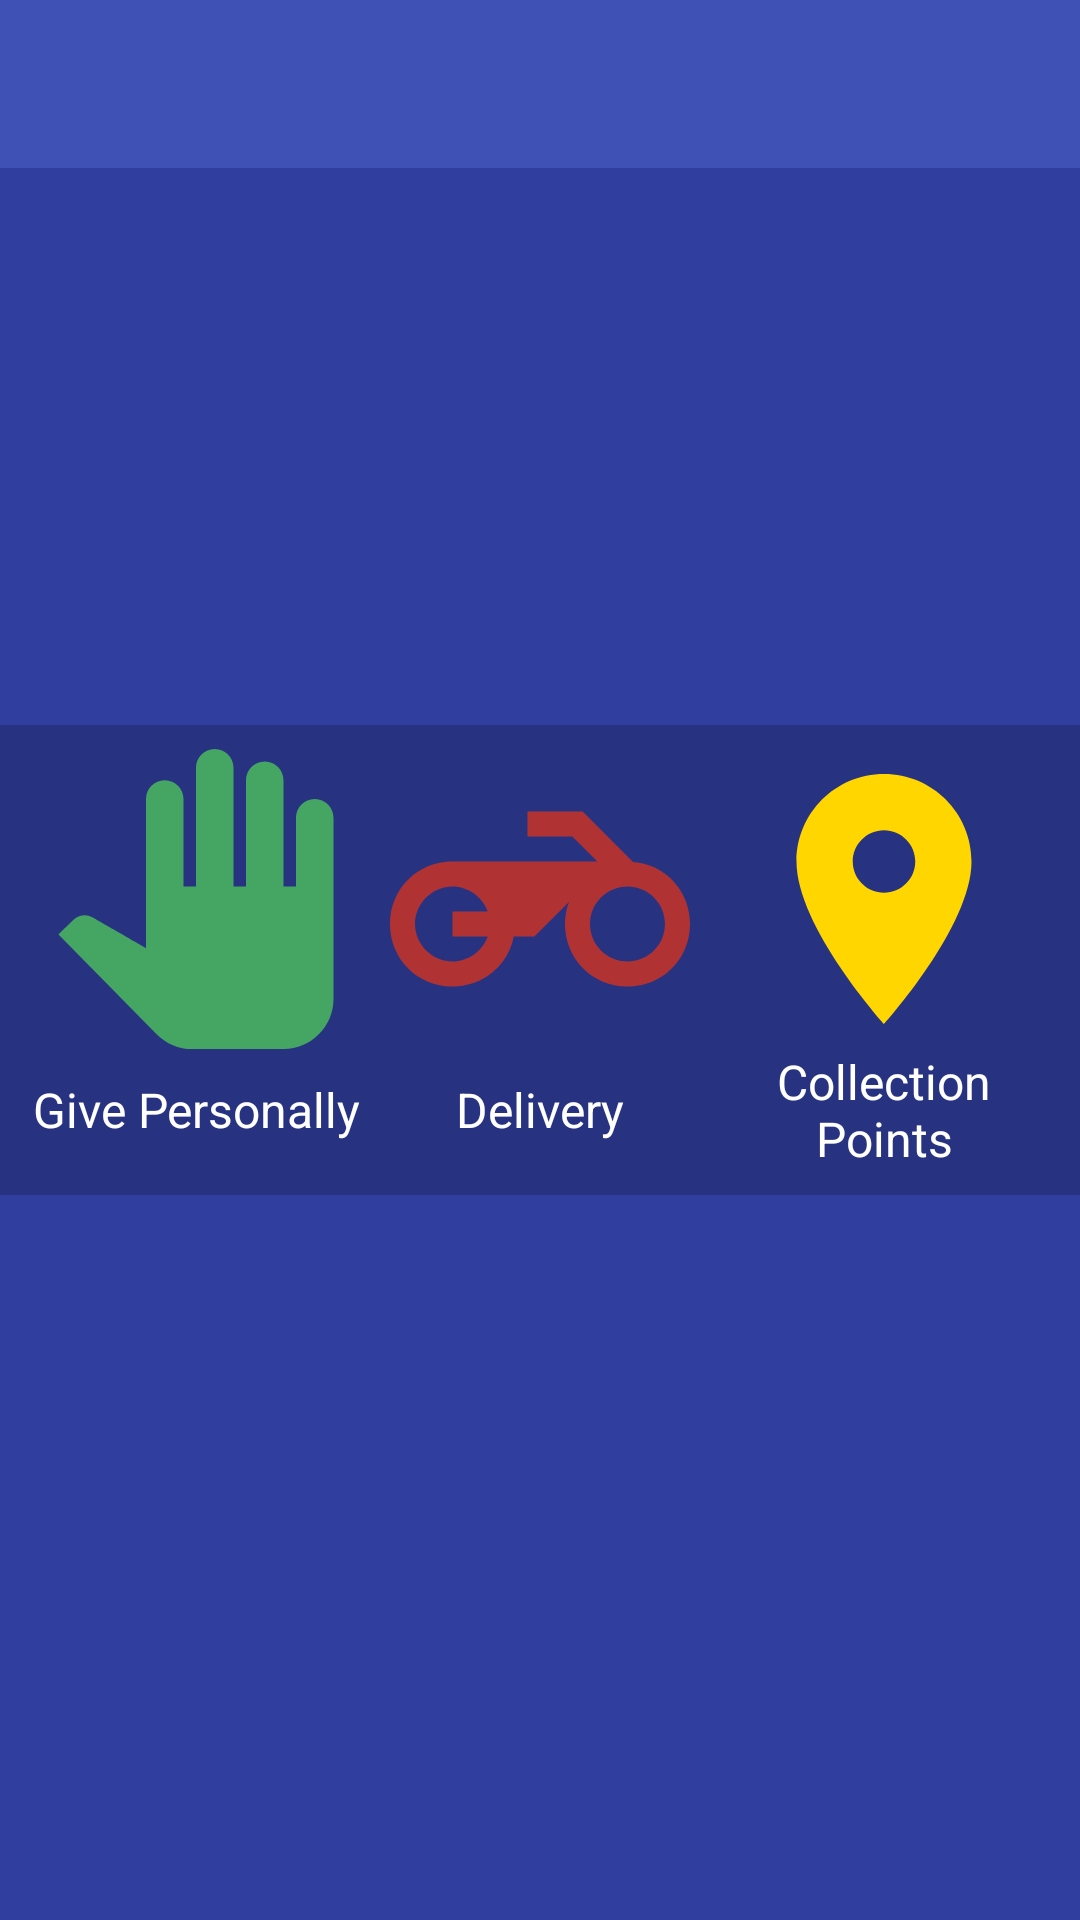

Where icons sit on this 1080×1920 app screen, as (x1,y1,x2,y2):
location on: (796,774,972,1024)
motorcycle: (390,811,690,987)
pan tool: (58,749,334,1049)
